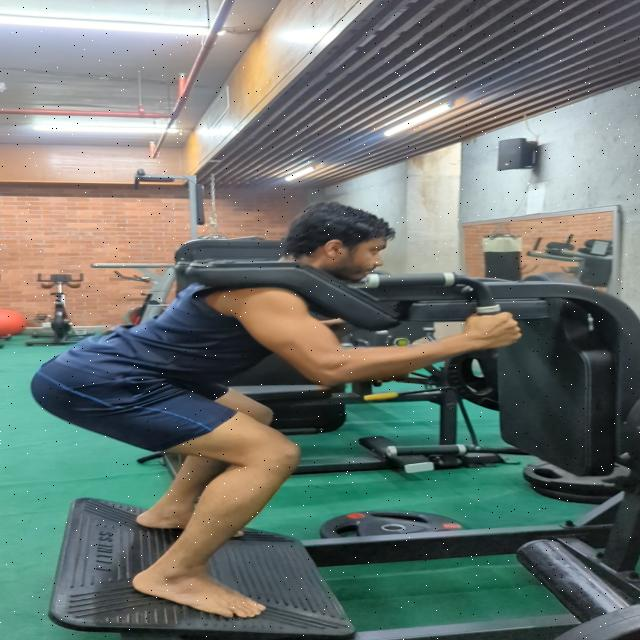Normal_SquatsWithBarbell: (34, 207, 535, 630)
